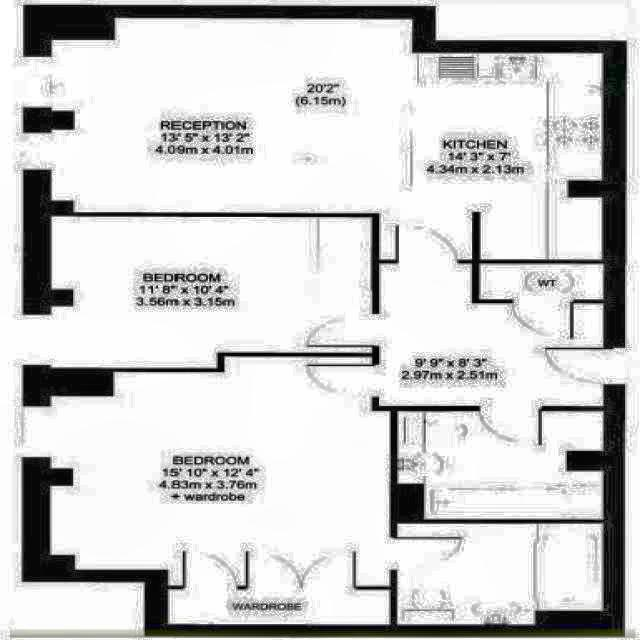room: (48, 17, 604, 260), (48, 357, 390, 624), (50, 216, 371, 368), (381, 264, 603, 406), (398, 412, 603, 518), (397, 523, 603, 624)
